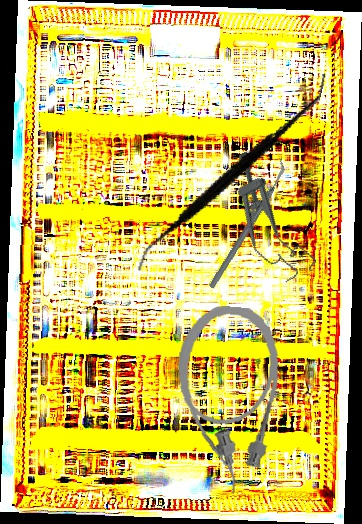Cannula: (167, 302, 285, 497)
Chopper: (173, 158, 321, 290)
Spatula Surgical: (135, 39, 327, 305)
Speculum: (212, 146, 320, 290)
